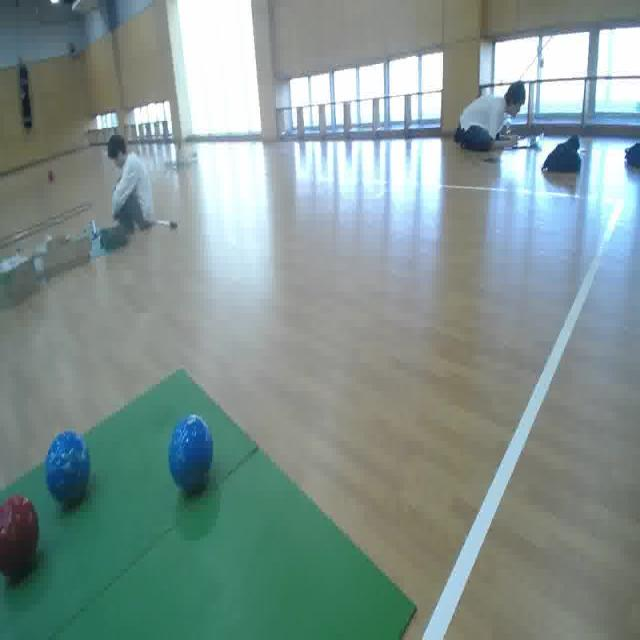blue_ball: (168, 408, 214, 502), (44, 427, 91, 515)
red_ball: (0, 493, 43, 583)
